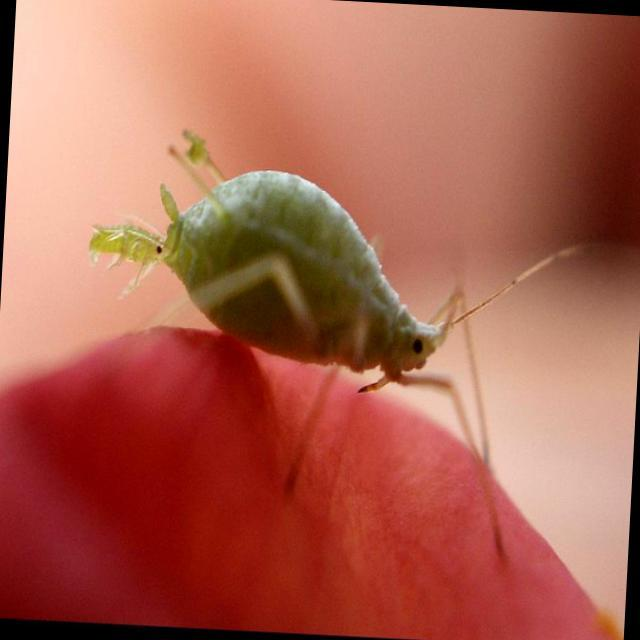aphid: (56, 90, 574, 562)
